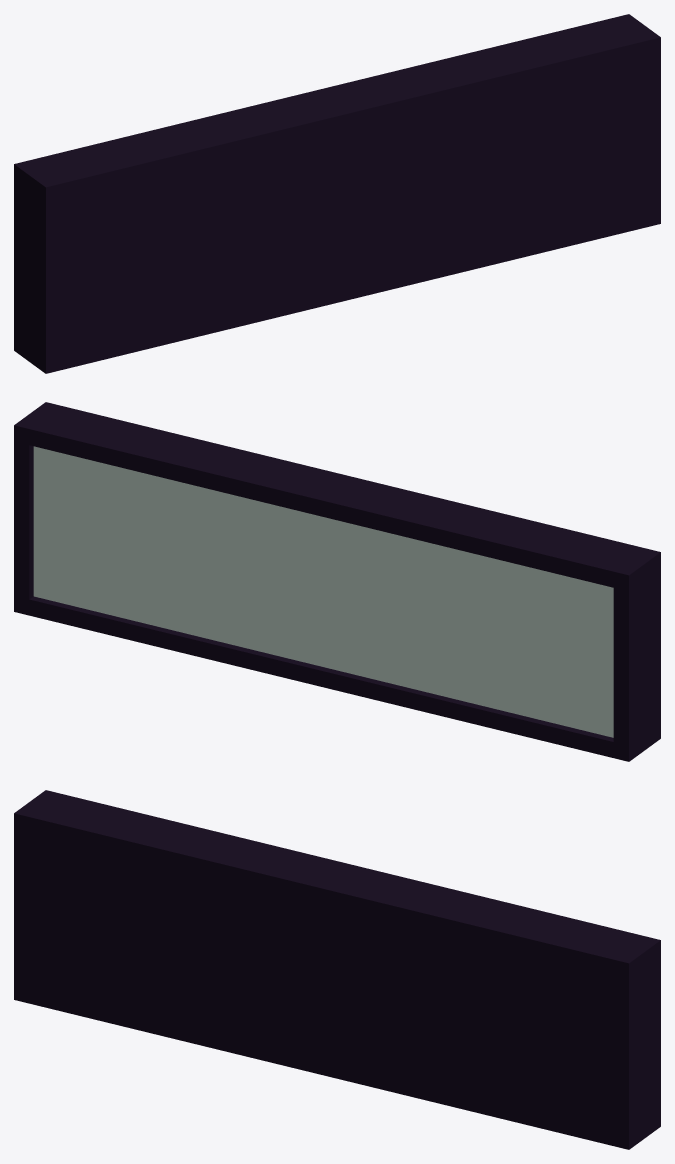
The model's file is Building_Sign_ConvenienceStore.fbx.
The picture shows the model from 3 angles, top to bottom: view 1: azimuth 30°, elevation 25°; view 2: azimuth 150°, elevation 25°; view 3: azimuth 330°, elevation 25°; orthographic projection.
Visible parts, largest first — view 1: Cube.158; view 2: Cube.158; view 3: Cube.158.
Boxes of the visible parts, x1,y1,x2,y2 form: Cube.158: (14,14,660,373); Cube.158: (14,402,660,761); Cube.158: (14,790,660,1149).
Size of the model in its own units: 429 by 124 by 38.54.
